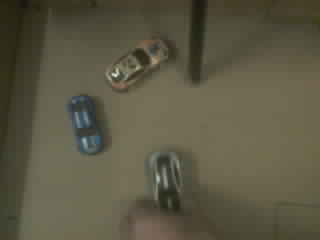Car: (105, 39, 168, 91), (69, 95, 101, 149), (148, 152, 181, 201)
